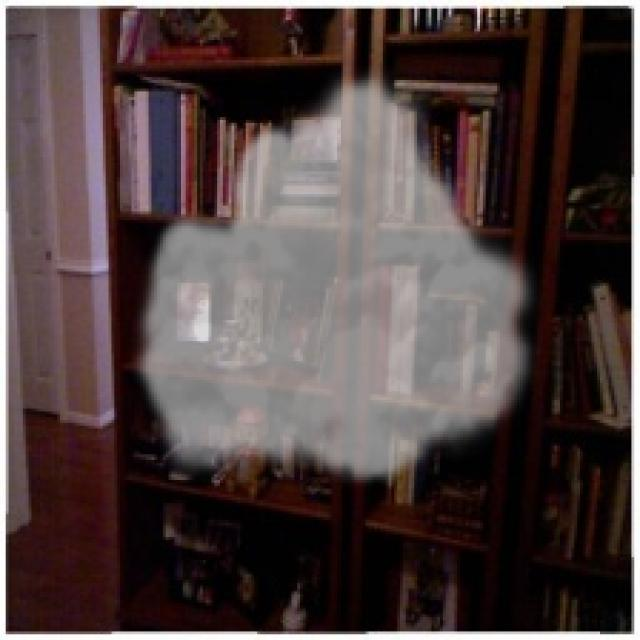Smoke: (128, 66, 546, 488)
